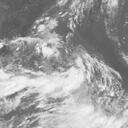cyclone: (39, 57, 88, 110)
